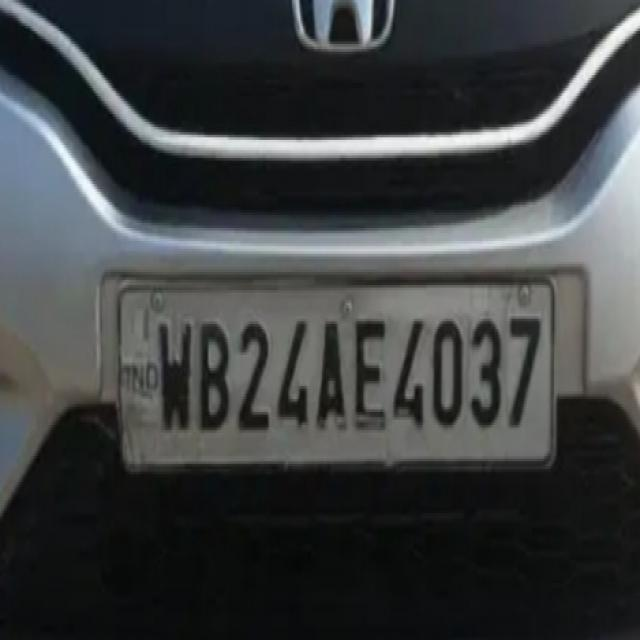0: (432, 298, 470, 442)
3: (466, 292, 503, 444)
4: (390, 303, 430, 439), (277, 304, 313, 444)
7: (504, 292, 542, 436)
A: (314, 304, 354, 444)
B: (192, 303, 232, 440)
E: (349, 303, 390, 442)
W: (153, 306, 197, 443)
